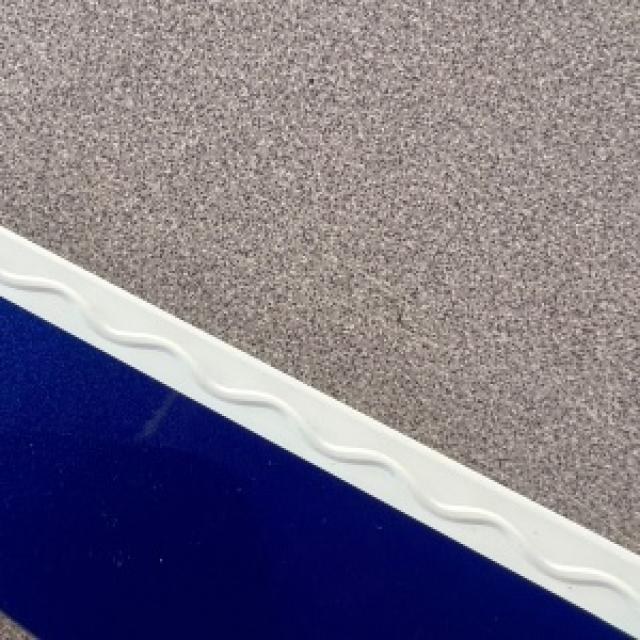healthy: (0, 0, 638, 550), (0, 228, 638, 638)
